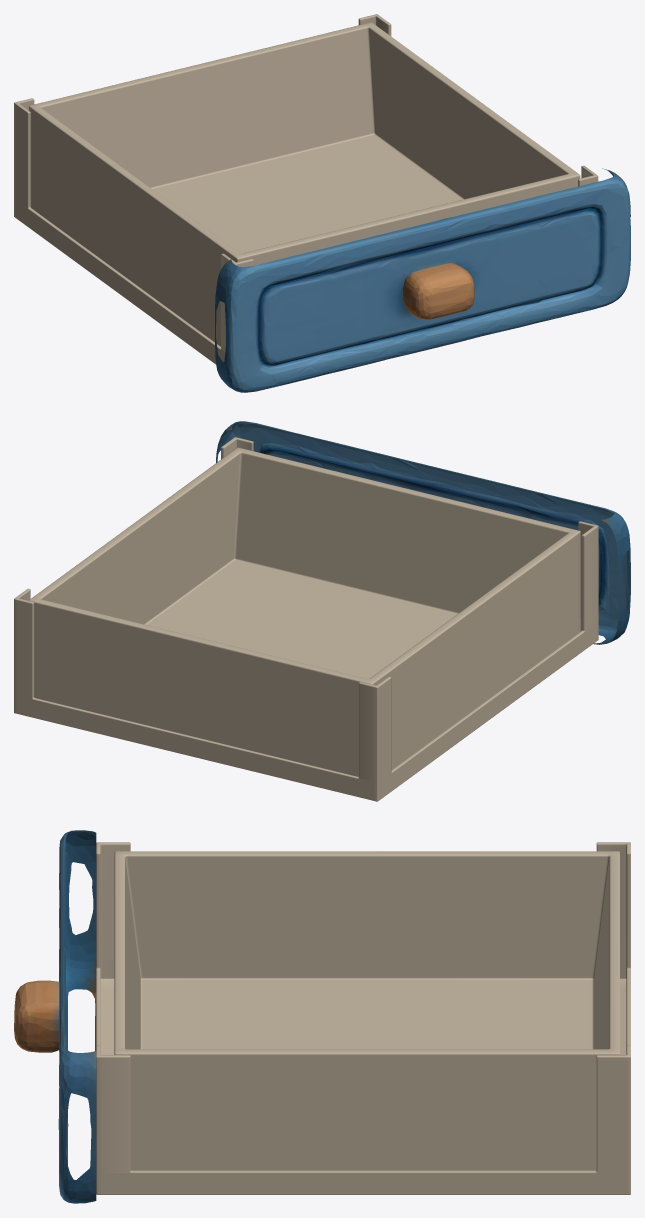
The model's file is drawer_top.glb.
3 renders of one model, top to bottom at view 1: azimuth 30°, elevation 25°; view 2: azimuth 150°, elevation 25°; view 3: azimuth 270°, elevation 25°, orthographic. The views are drawn at different scales.
Parts seen in each view (by area): view 1: prefab_drawer_body_1, source_front_cap_0; view 2: prefab_drawer_body_1, source_front_cap_0; view 3: prefab_drawer_body_1, source_front_cap_0.
Part boxes in pixels (x1,y1,x2,y2): prefab_drawer_body_1: [14, 14, 598, 364]; source_front_cap_0: [215, 168, 630, 392]; prefab_drawer_body_1: [14, 437, 598, 801]; source_front_cap_0: [216, 421, 630, 644]; prefab_drawer_body_1: [96, 842, 630, 1194]; source_front_cap_0: [14, 830, 96, 1203].
Size of the model in its own units: 0.3571 by 0.1074 by 0.3906.
2 materials, 1 textured.
